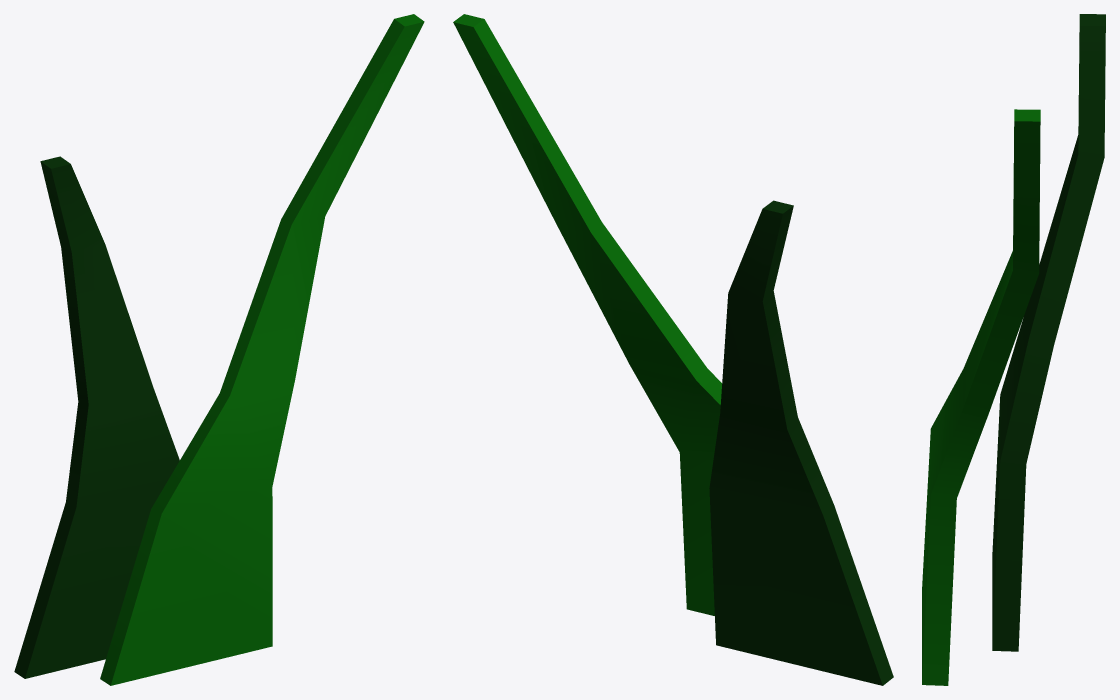
Rendered from grama_conj_3.fbx.
The picture shows the model from 3 angles, left to right: view 1: azimuth 30°, elevation 25°; view 2: azimuth 150°, elevation 25°; view 3: azimuth 270°, elevation 25°; orthographic projection. The views are drawn at different scales.
Parts seen in each view (by area): view 1: polySurface11; view 2: polySurface11; view 3: polySurface11.
Boxes of the visible parts, box(x1,y1,x2,y2) form: polySurface11: box(14, 14, 424, 685); polySurface11: box(453, 14, 893, 685); polySurface11: box(922, 14, 1105, 685).
Bounding box in the file's own units: 0.2213 × 0.2855 × 0.0701.
